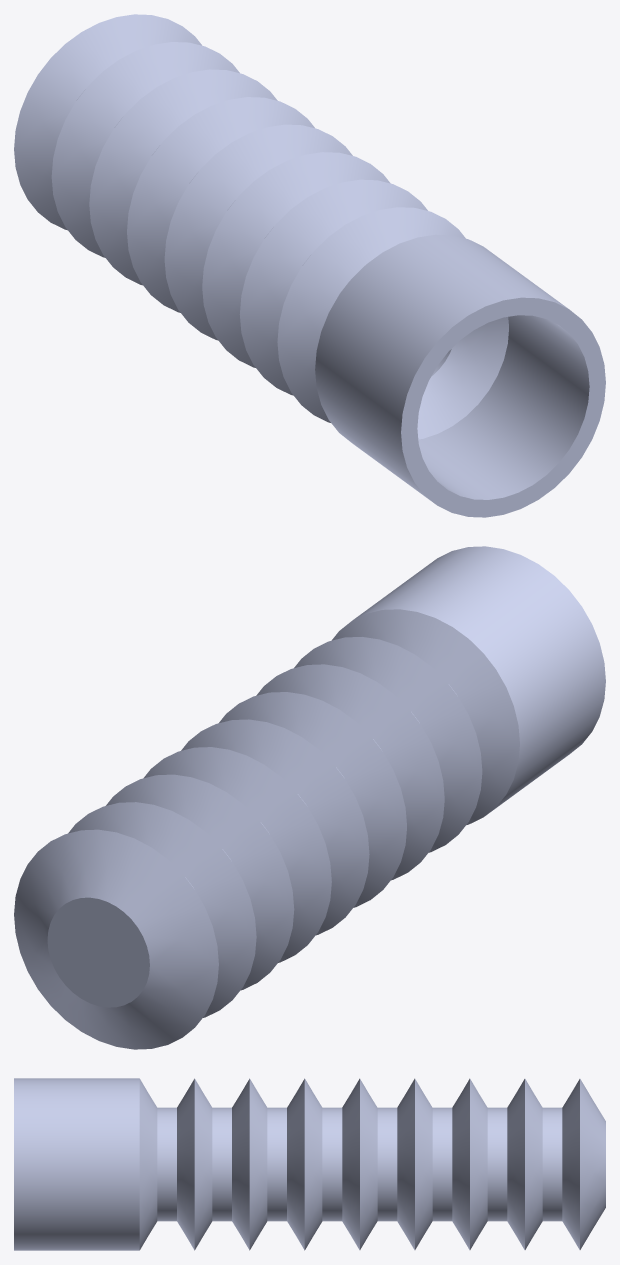
The model's file is bellow1.obj.
The picture shows the model from 3 angles, top to bottom: view 1: azimuth 30°, elevation 25°; view 2: azimuth 150°, elevation 25°; view 3: azimuth 270°, elevation 25°; orthographic projection. The views are drawn at different scales.
Parts seen in each view (by area): view 1: sam-bellow; view 2: sam-bellow; view 3: sam-bellow.
Boxes of the visible parts, x1=… form: sam-bellow: x1=14, y1=14, x2=605, y2=517; sam-bellow: x1=14, y1=546, x2=605, y2=1049; sam-bellow: x1=14, y1=1078, x2=605, y2=1250.
Bounding box in the file's own units: 10 × 10 × 34.2.
